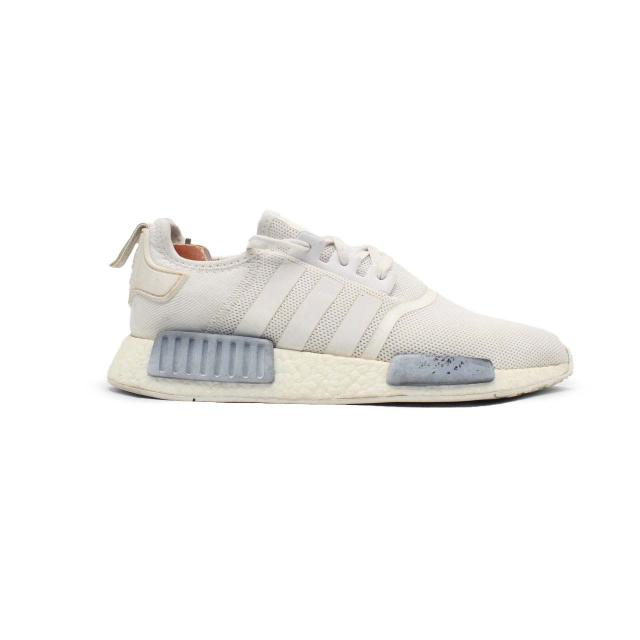heel: (111, 221, 215, 342)
midsole: (108, 330, 574, 404)
uppersole: (212, 211, 566, 367)
